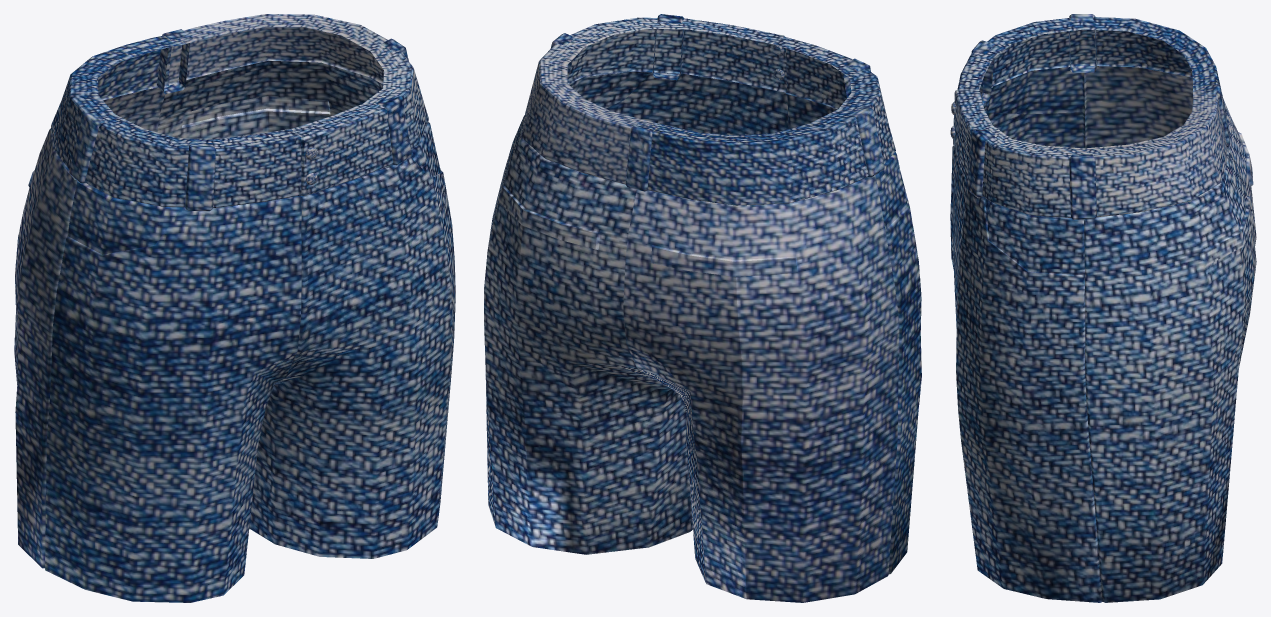
File: cowboyshorts_001.fbx
The picture shows the model from 3 angles, left to right: view 1: azimuth 30°, elevation 25°; view 2: azimuth 150°, elevation 25°; view 3: azimuth 270°, elevation 25°; orthographic projection. The views are drawn at different scales.
Parts seen in each view (by area): view 1: cowboyshorts_001; view 2: cowboyshorts_001; view 3: cowboyshorts_001.
Boxes of the visible parts, left/top/right/bottom form: cowboyshorts_001: left=14, top=14, right=455, bottom=602; cowboyshorts_001: left=484, top=14, right=921, bottom=602; cowboyshorts_001: left=950, top=14, right=1256, bottom=602.
Bounding box in the file's own units: 19.11 × 21.59 × 13.72.
1 material, 1 textured.
